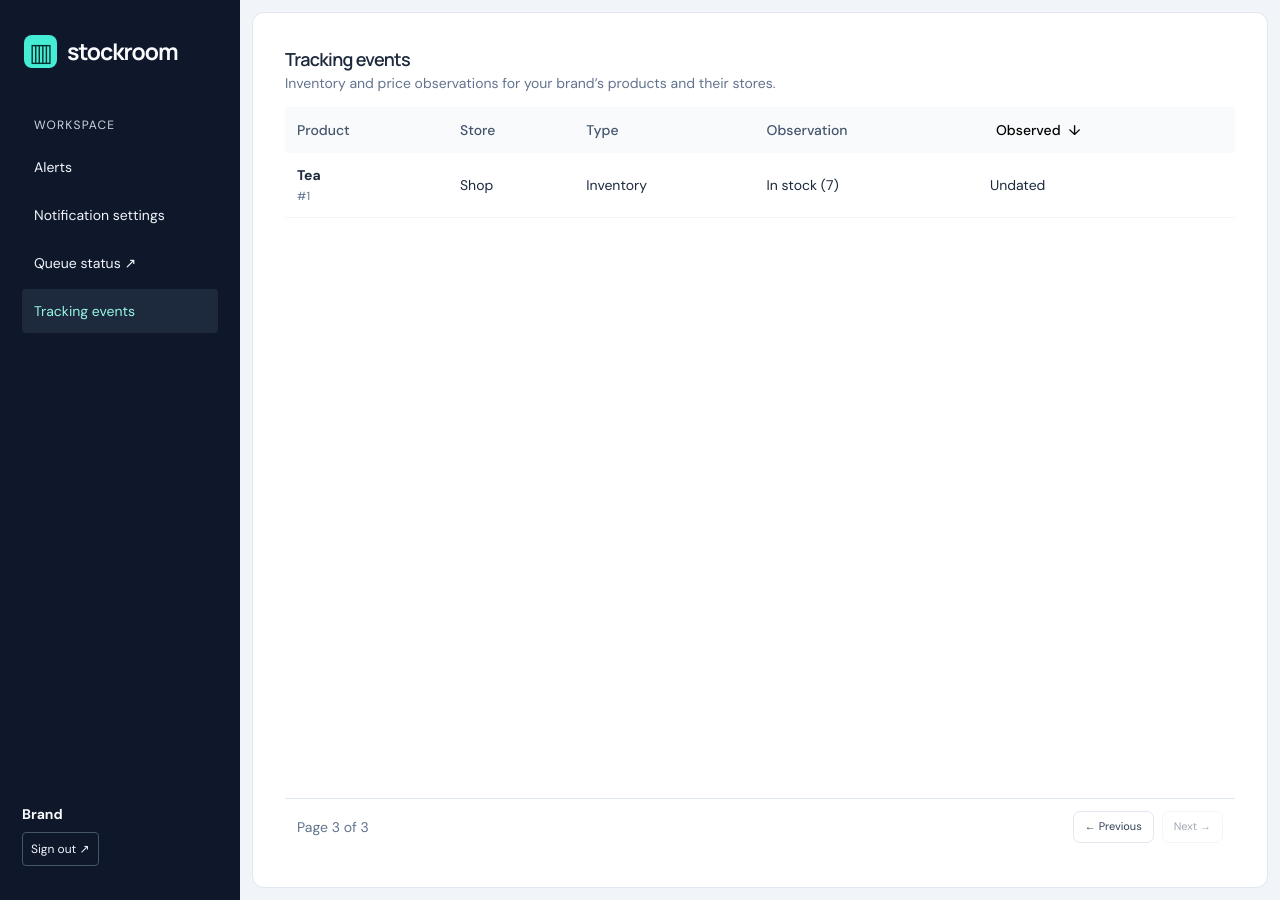
Scenario: toggles observed sorting from page three, resets the page and preserves order during pagination
Click the button with aria-label "Observed: sort oldest first": [1038, 130] box [990,119,1087,141]
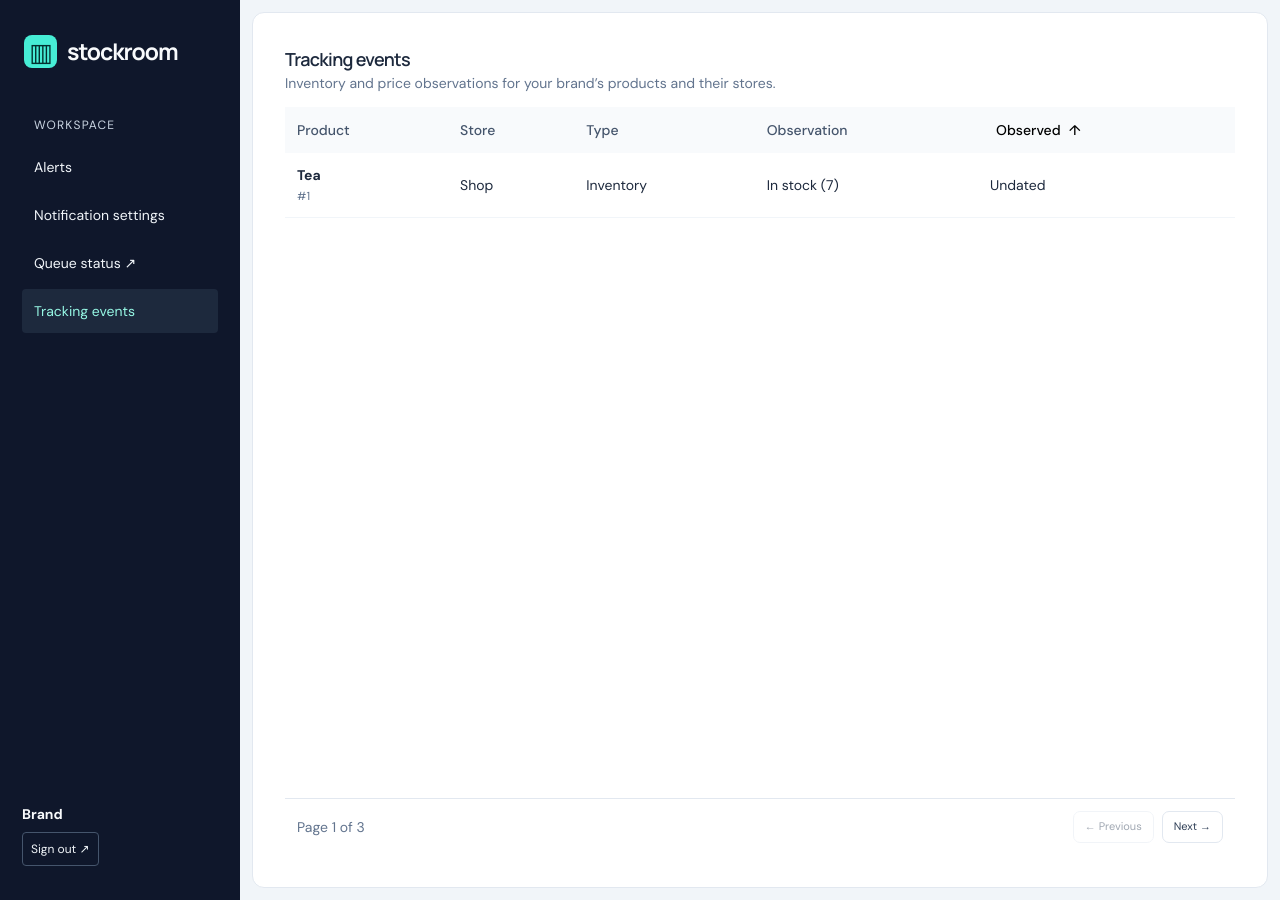
Expected: the column heading named "Observed: sort newest first" has attribute aria-sort="ascending", [978,107,1235,153]
Click the button "Next →": [1192, 827] box [1162,811,1223,843]
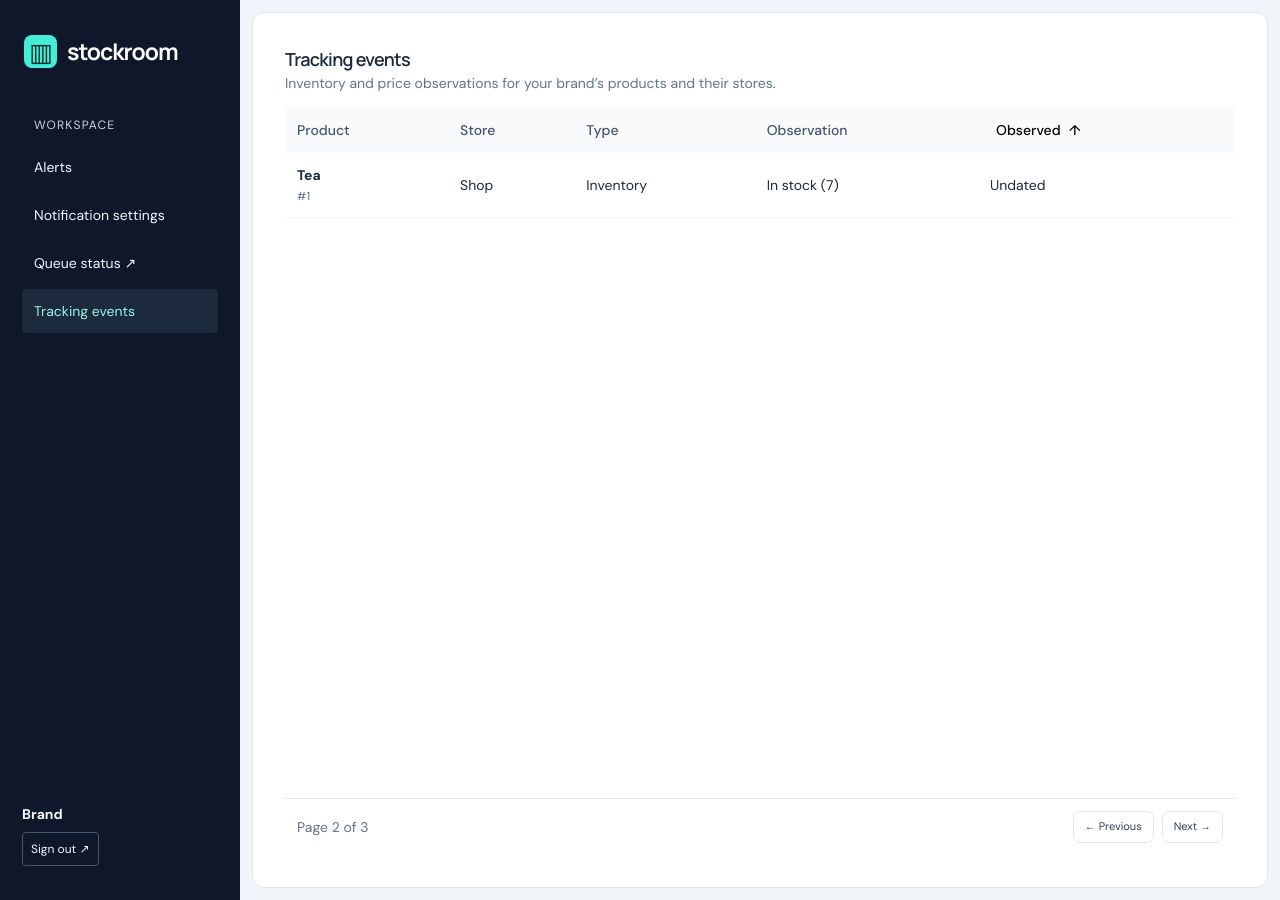
Expected: the text "Page 2 of 3" is shown, [297,817,368,837]
Click the button with aria-label "Observed: sort newest first": [1038, 130] box [990,119,1087,141]
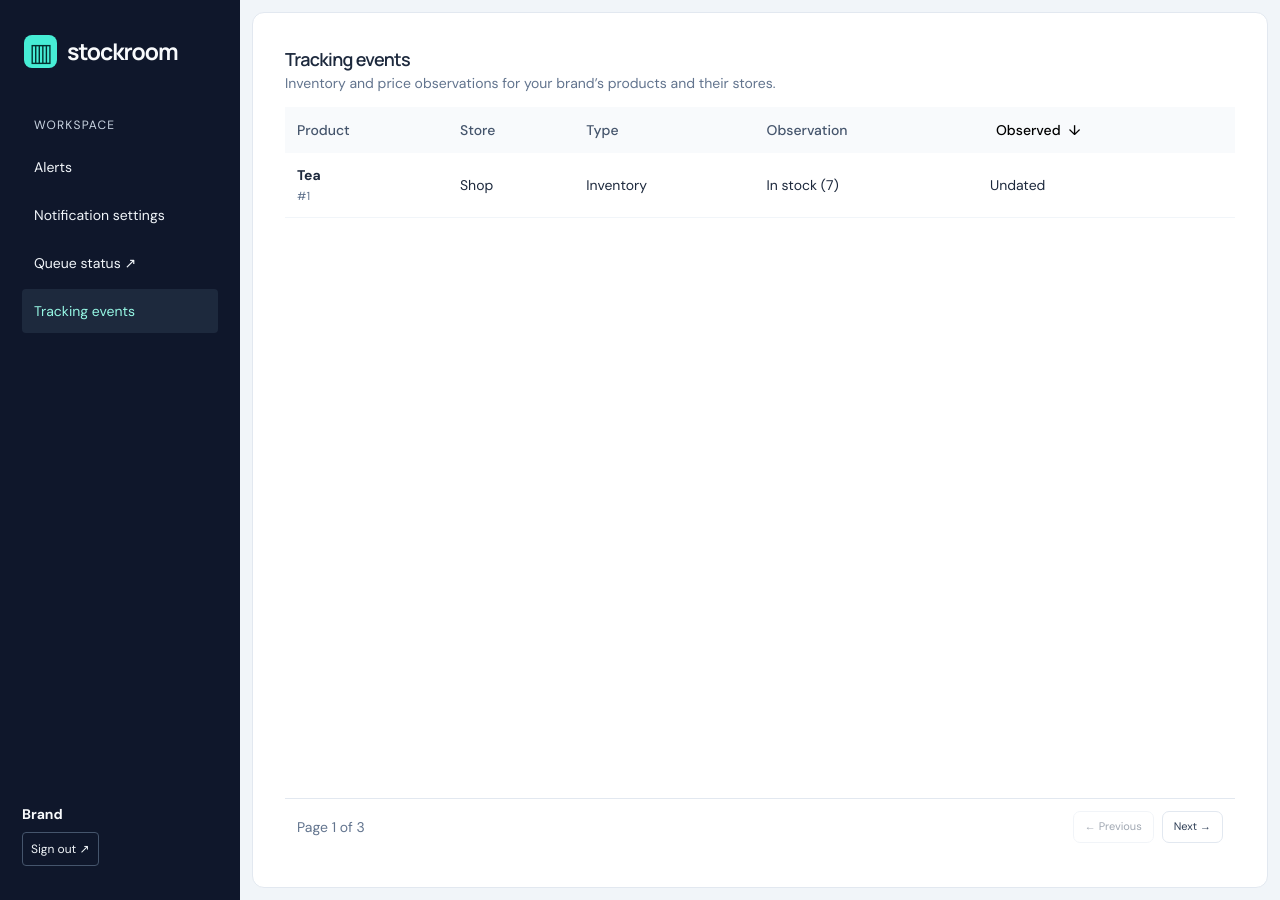
Expected: the button with aria-label "Observed: sort oldest first" is shown, [990,119,1087,141]
